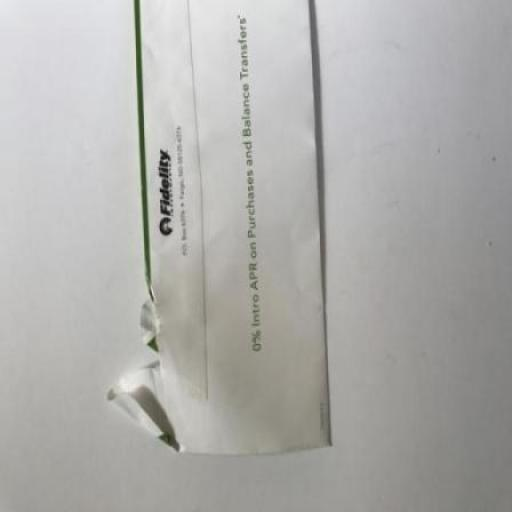paper: (96, 2, 341, 484)
